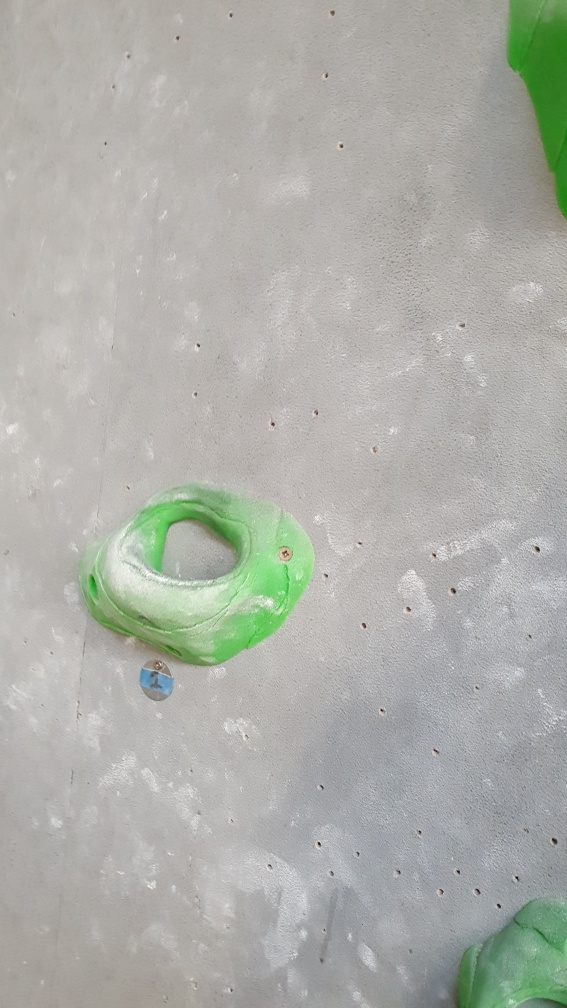Hand Start: (137, 659, 176, 706)
Pocket: (81, 475, 313, 670)
